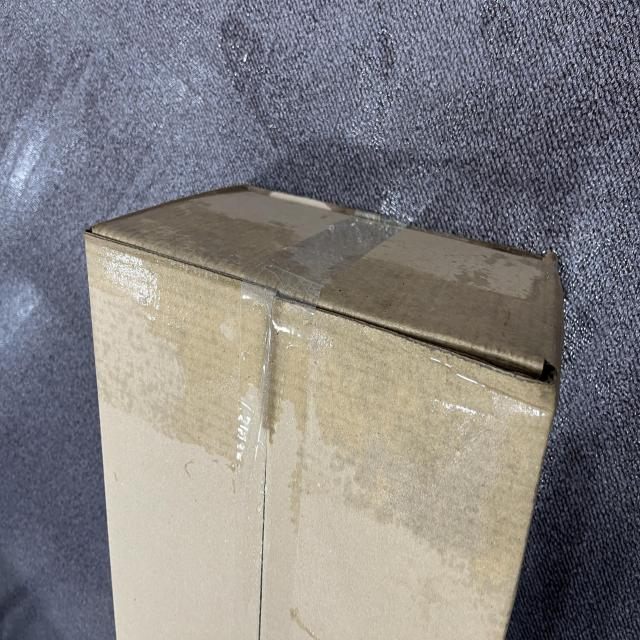wet: (112, 131, 322, 640)
